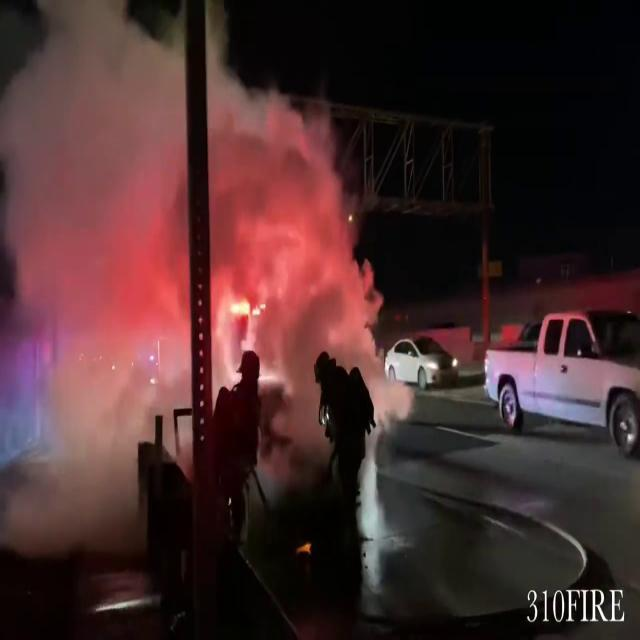Smoke: (0, 0, 186, 518), (207, 73, 411, 428)
